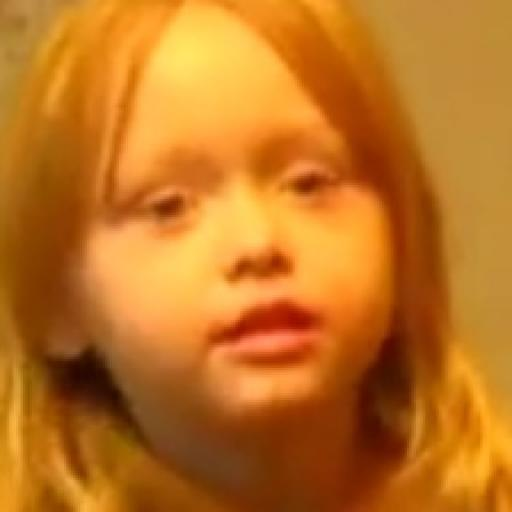Autism: (90, 95, 458, 512)
